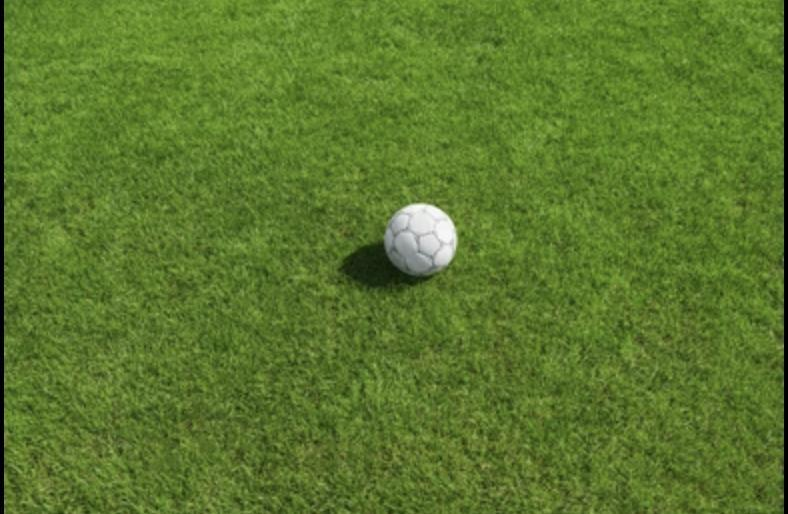Sports-Ball: (385, 204, 457, 276)
